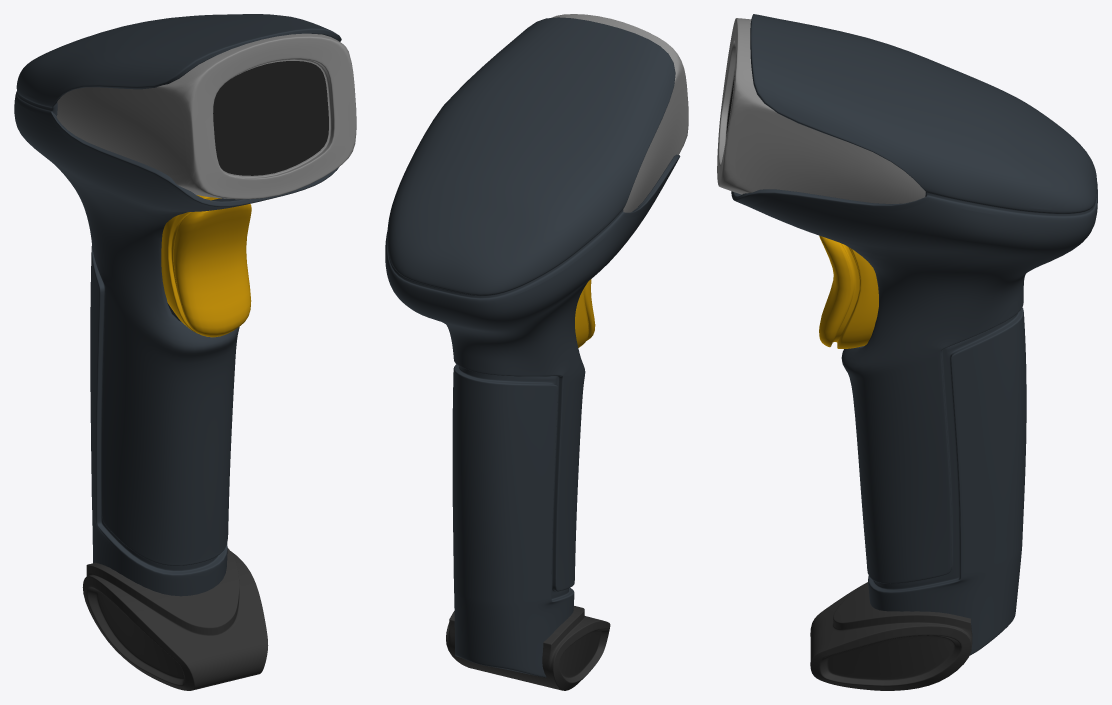
File: Bar_scanner.fbx
The picture shows the model from 3 angles, left to right: view 1: azimuth 30°, elevation 25°; view 2: azimuth 150°, elevation 25°; view 3: azimuth 270°, elevation 25°; orthographic projection. The views are drawn at different scales.
Visible parts, largest first — view 1: polySurface4, polySurface3, polySurface1, polySurface2; view 2: polySurface4, polySurface1, polySurface3, polySurface2; view 3: polySurface4, polySurface3, polySurface1, polySurface2.
Part boxes in pixels (x1,y1,x2,y2): polySurface4: (14, 14, 341, 596); polySurface3: (56, 33, 356, 199); polySurface1: (82, 548, 268, 690); polySurface2: (161, 195, 251, 337); polySurface4: (385, 17, 680, 677); polySurface1: (446, 606, 610, 690); polySurface3: (551, 14, 688, 212); polySurface2: (575, 279, 595, 347); polySurface4: (731, 14, 1097, 655); polySurface3: (717, 18, 925, 203); polySurface1: (810, 582, 972, 690); polySurface2: (819, 235, 878, 348).
Bounding box in the file's own units: 23.45 × 65.11 × 35.28.
